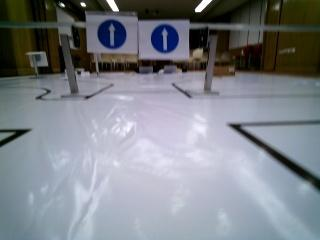straight: (134, 17, 189, 58), (87, 13, 135, 52)
